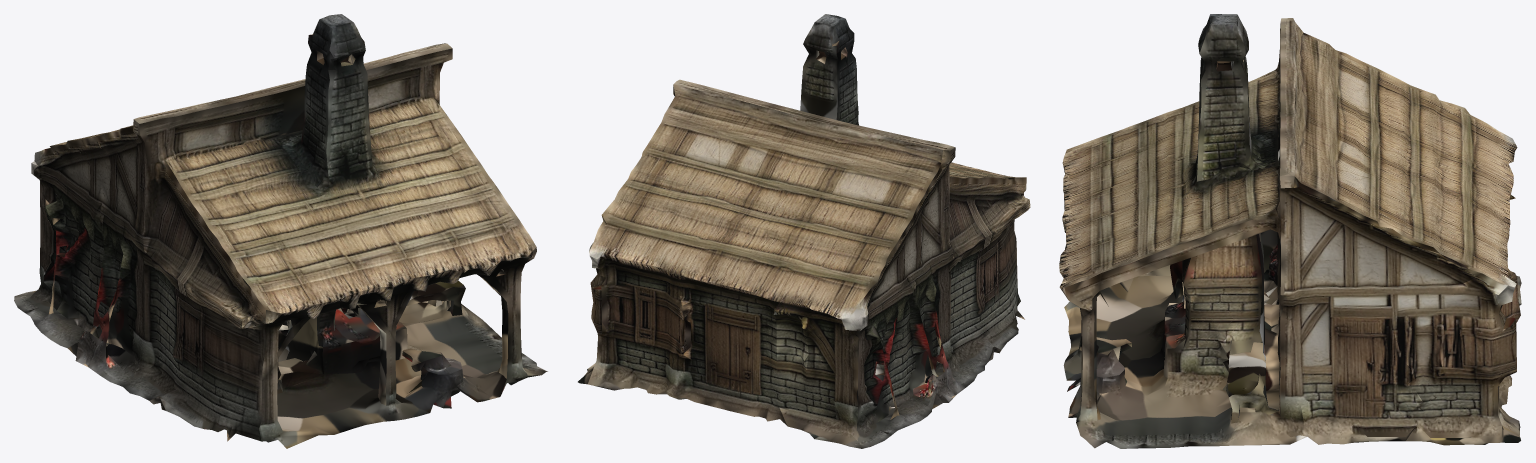
Rendered from blacksmith.glb.
3 views of the same model, side by side, from view 1: azimuth 30°, elevation 25°; view 2: azimuth 150°, elevation 25°; view 3: azimuth 270°, elevation 25° (orthographic). The views are drawn at different scales.
Parts seen in each view (by area): view 1: Blacksmith Shop; view 2: Blacksmith Shop; view 3: Blacksmith Shop.
Part boxes in pixels (x1,y1,x2,y2): Blacksmith Shop: (14,14,547,448); Blacksmith Shop: (578,14,1030,448); Blacksmith Shop: (1059,14,1521,448).
Size of the model in its own units: 8.48 by 8 by 9.4.
Materials: 1 (1 with a texture image).
